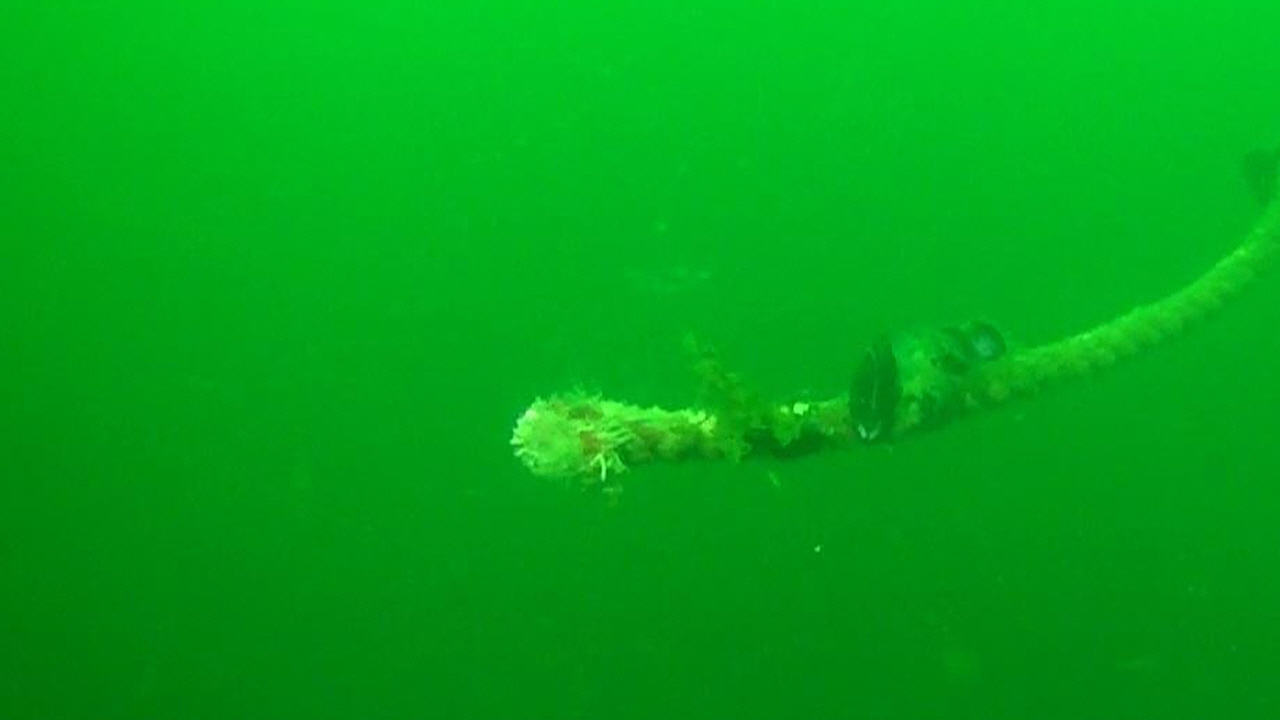rope: (592, 192, 1280, 468)
